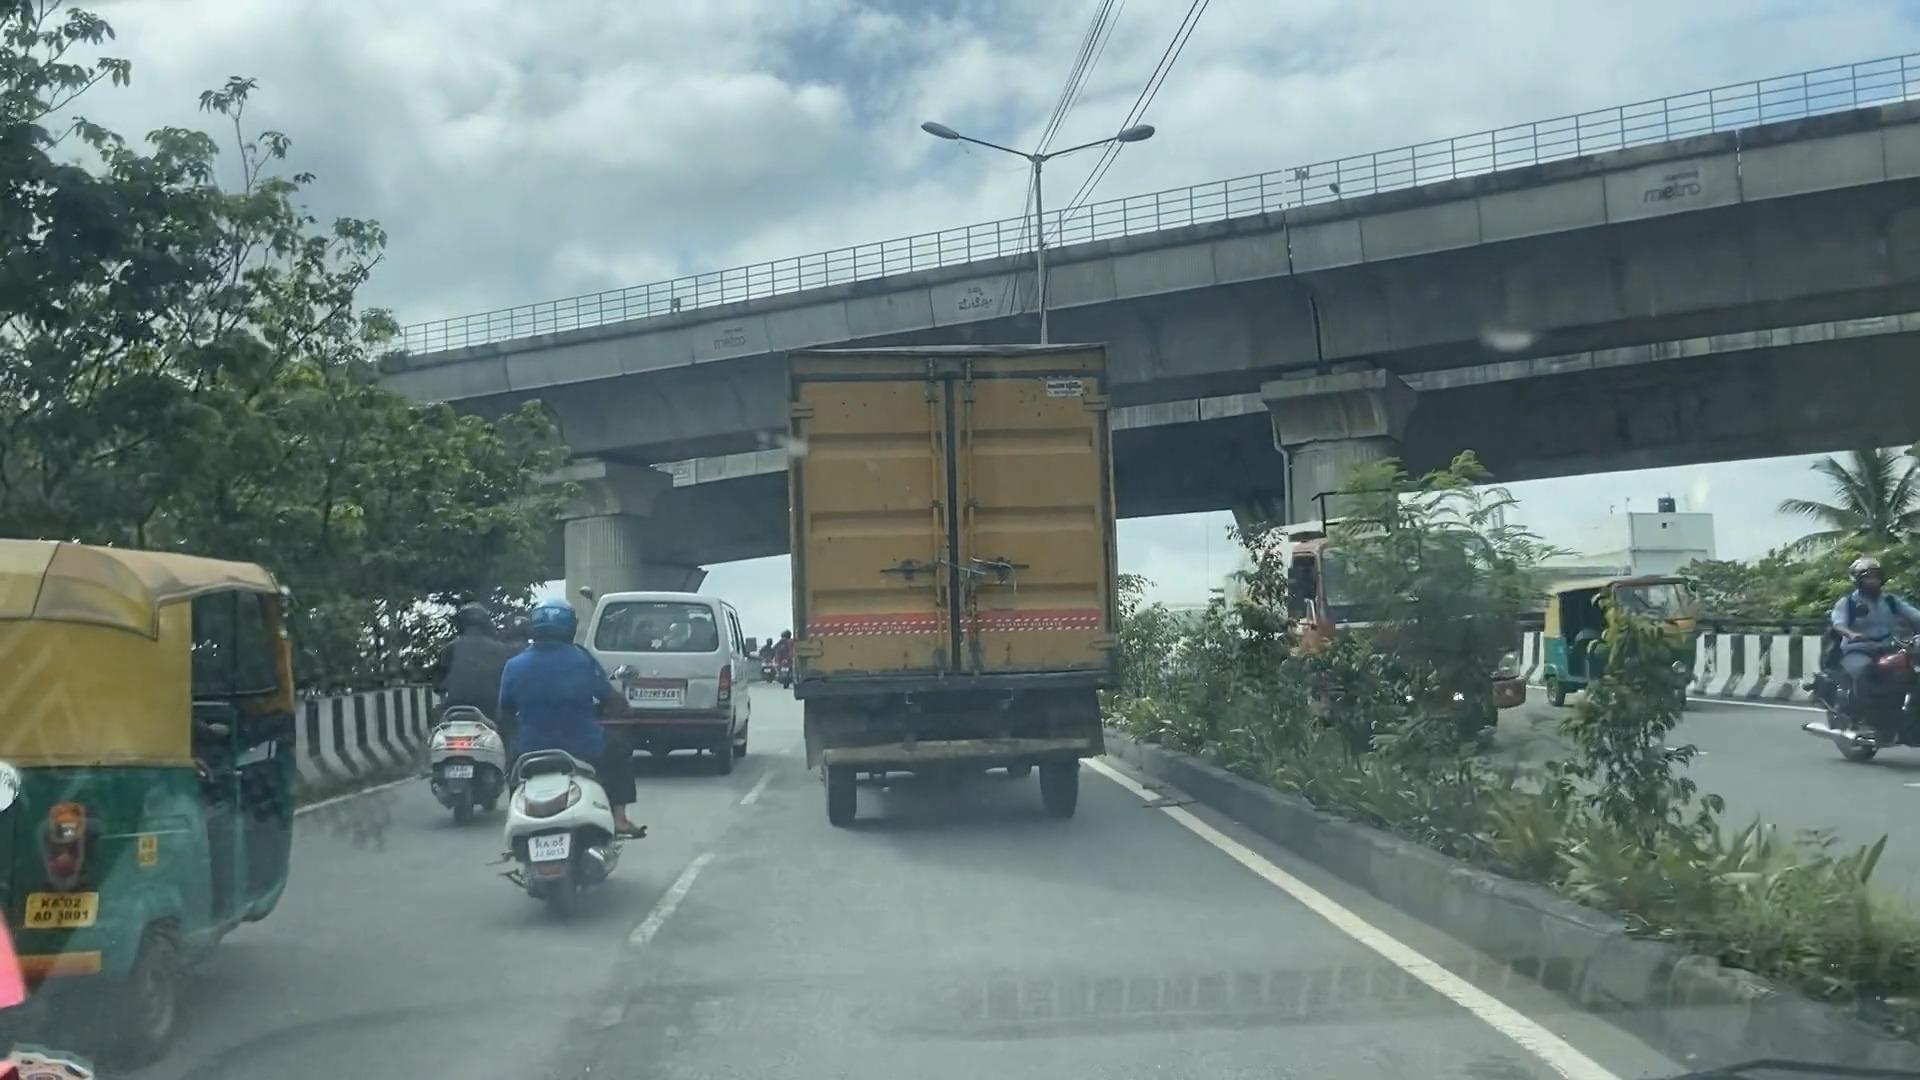HMV: (781, 353, 1129, 811)
LMV: (493, 587, 618, 880)
